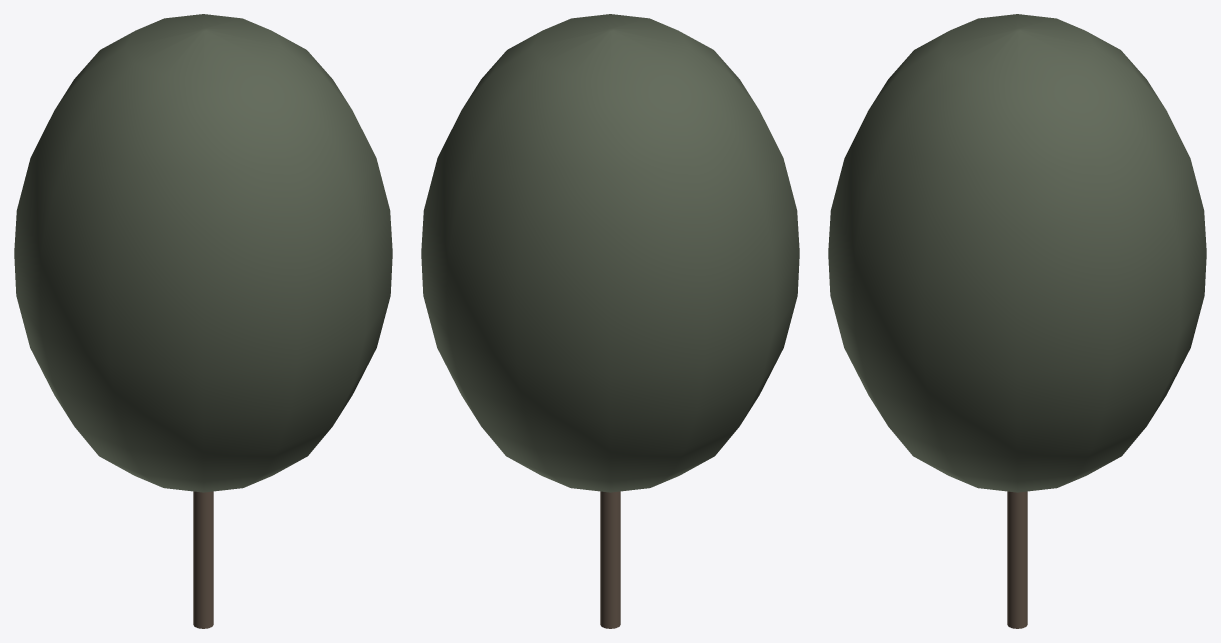
File: Apricot_Analytical_0.obj
3 renders of one model, left to right at view 1: azimuth 30°, elevation 25°; view 2: azimuth 150°, elevation 25°; view 3: azimuth 270°, elevation 25°, orthographic.
Parts seen in each view (by area): view 1: AnalyticalCrown, AnalyticalTrunk; view 2: AnalyticalCrown, AnalyticalTrunk; view 3: AnalyticalCrown, AnalyticalTrunk.
Part boxes in pixels (x1,y1,x2,y2): AnalyticalCrown: (14, 14, 392, 492); AnalyticalTrunk: (193, 491, 213, 628); AnalyticalCrown: (421, 14, 799, 492); AnalyticalTrunk: (600, 491, 620, 628); AnalyticalCrown: (828, 14, 1206, 492); AnalyticalTrunk: (1007, 491, 1027, 628).
Size of the model in its own units: 4.04 by 7 by 4.04.
